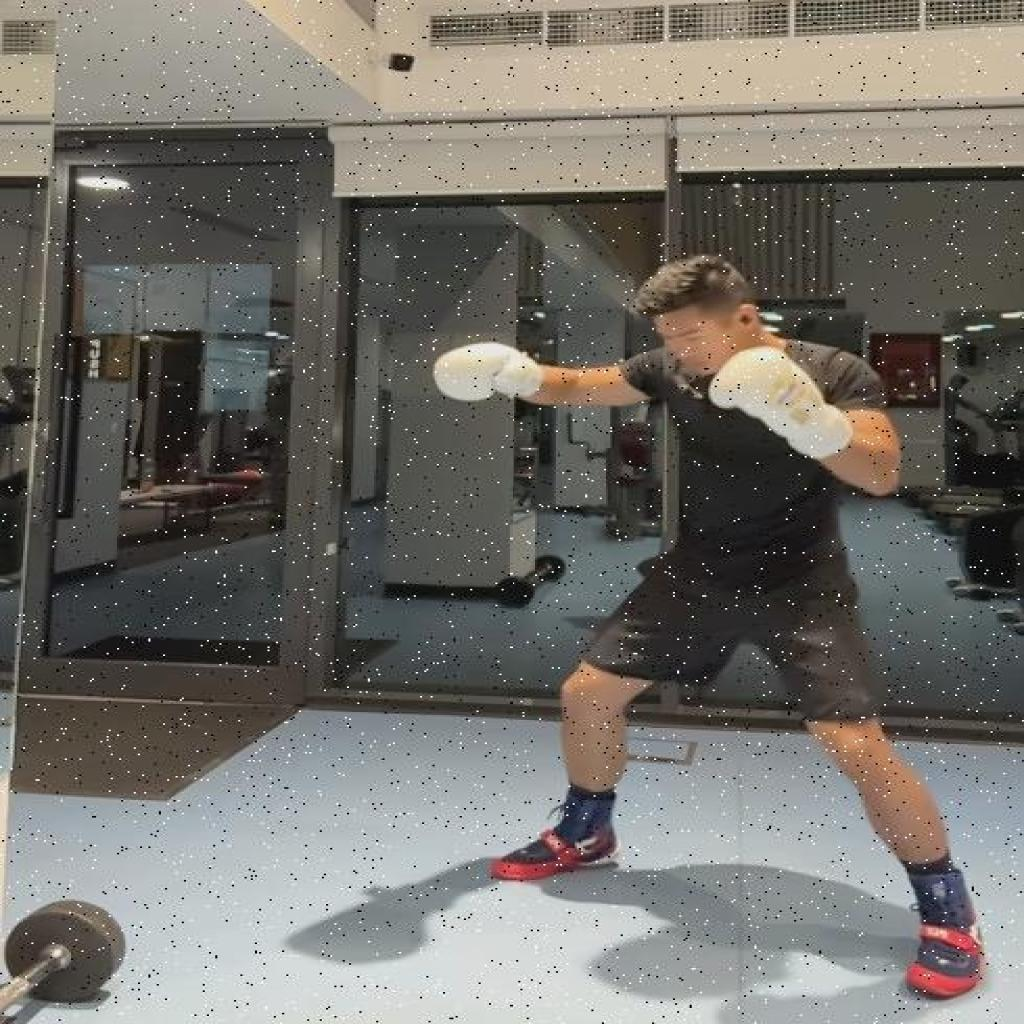hook: (428, 254, 986, 1005)
